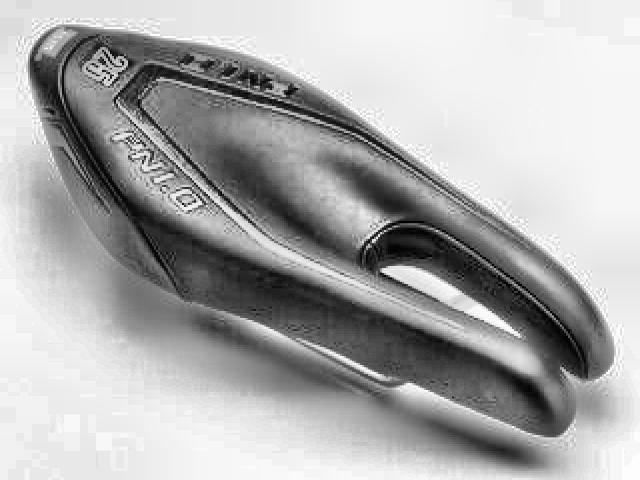saddle: (24, 20, 616, 443)
